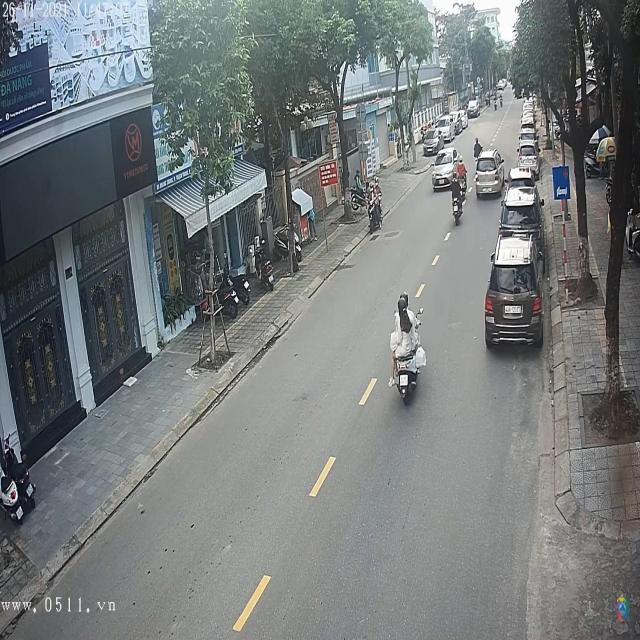car: (485, 238, 542, 350), (501, 180, 542, 238), (472, 152, 504, 195), (432, 152, 458, 189), (517, 145, 538, 169), (424, 132, 444, 155), (468, 99, 482, 117)
motorcycle: (389, 348, 424, 404), (369, 196, 383, 236), (452, 192, 466, 228)
